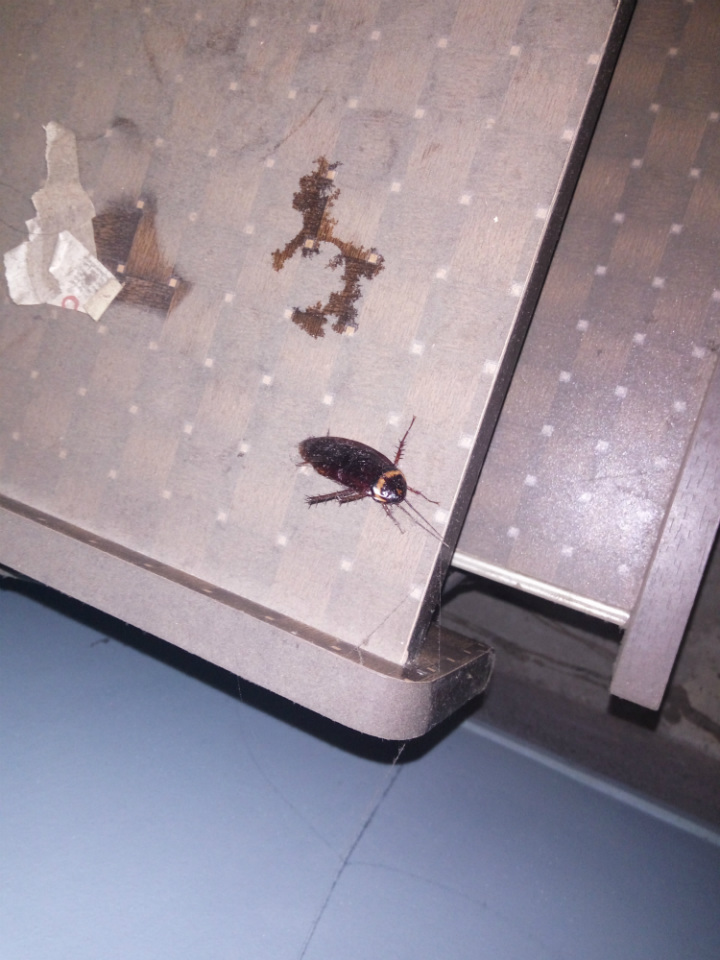cockroach: (166, 390, 444, 541)
